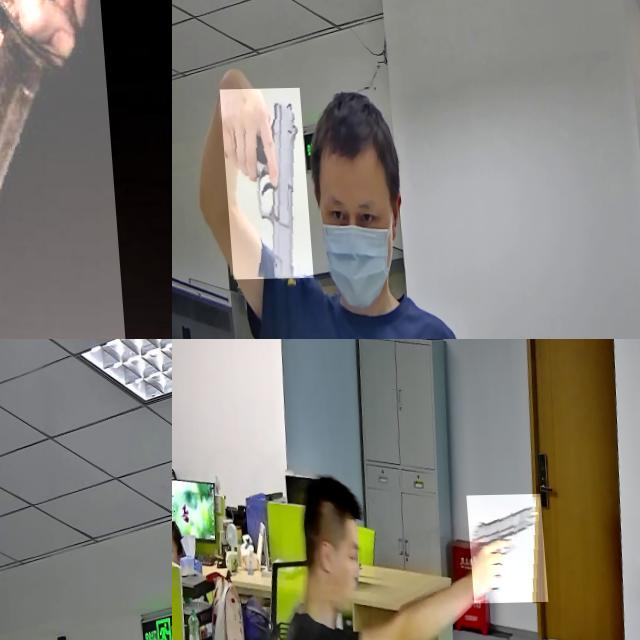-: (0, 0, 128, 339)
gun-knife-thesis - v11 Yolov5 augmented: (214, 88, 306, 280), (464, 496, 544, 606)
